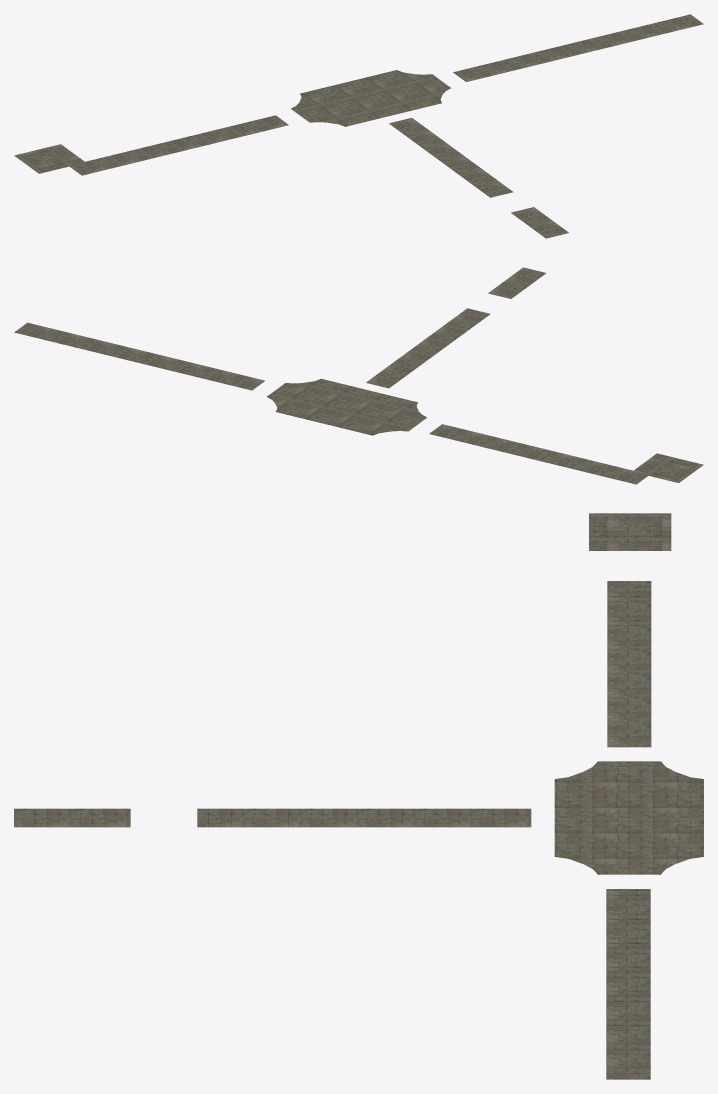
Rendered from diban1.FBX.
3 renders of one model, top to bottom at view 1: azimuth 30°, elevation 25°; view 2: azimuth 150°, elevation 25°; view 3: azimuth 270°, elevation 25°, orthographic. The views are drawn at different scales.
Visible parts, largest first — view 1: diban1; view 2: diban1; view 3: diban1.
Part boxes in pixels (x1,y1,x2,y2): diban1: [14, 14, 703, 238]; diban1: [14, 267, 703, 484]; diban1: [14, 513, 703, 1079].
Bounding box in the file's own units: 4731 × 119 × 2568.
